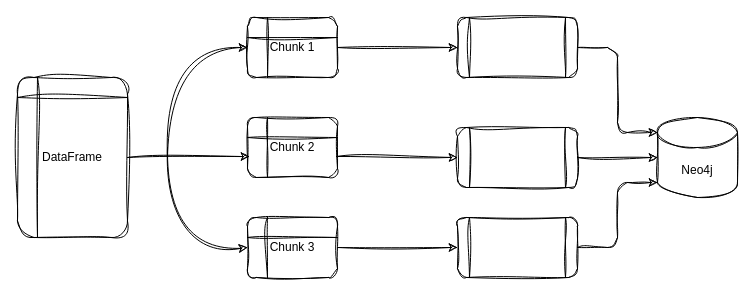
Some shapes in this 755 by 295 pixel diagram are drawn without their labels. Each missing label, with the centre of its shape:
Ingest Process 1: [517,47]
Ingest Process 2: [517,157]
Ingest Process 3: [517,247]
